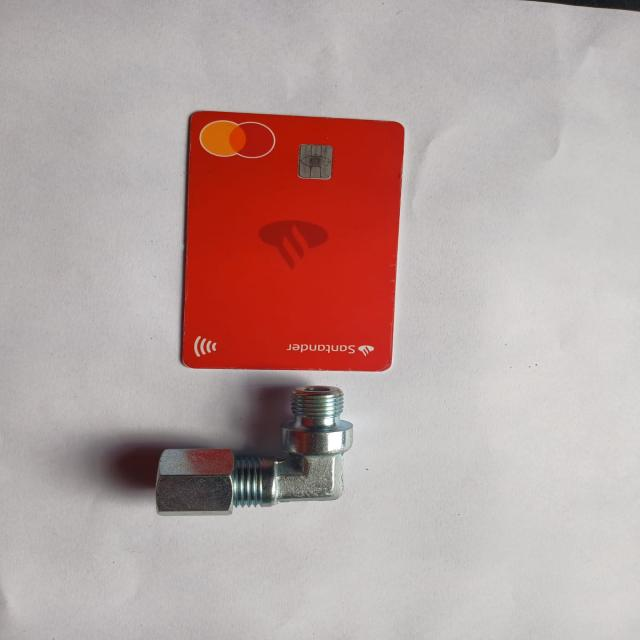cartao: (180, 112, 407, 370)
rosca_externa: (157, 386, 353, 516)
